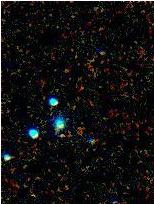star: (48, 121, 78, 151)
